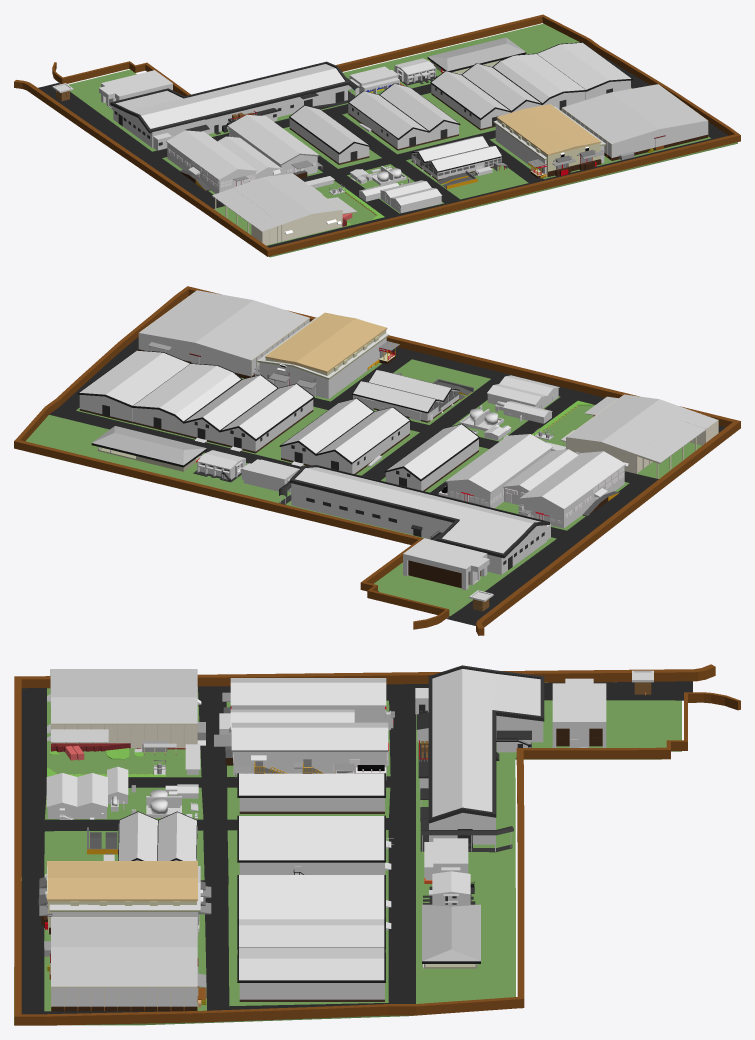
File: TrabajoProyectoARv27.fbx
The picture shows the model from 3 angles, top to bottom: view 1: azimuth 30°, elevation 25°; view 2: azimuth 150°, elevation 25°; view 3: azimuth 270°, elevation 25°; orthographic projection. The views are drawn at different scales.
Parts seen in each view (by area): view 1: Cube.277, Cesped, Carretera, Cube.014, Almacen8, techos, Cube.019, Cube.098, Cube.273, Cube.274, edificio 5frente a teco techo.002, edificio 1 frente a teco techo.003 (+21 smaller); view 2: Cube.277, Cesped, Carretera, techos, Almacen8, Cube.014, Cube.019, Cube.273, Cube.098, Cube.274, edificio 5frente a teco techo.002, Cube.360 (+22 smaller); view 3: Carretera, Cesped, Cube.277, Almacen8, techos, Cube.014, Cube.019, Cube.274, Cube.098, Cube.273, edificio 1 frente a teco techo.003, edificio 5frente a teco techo.002 (+20 smaller).
Part boxes in pixels (bbox=[...]): Cube.277: bbox=[14, 14, 740, 256]; Cesped: bbox=[68, 23, 737, 257]; Carretera: bbox=[38, 55, 728, 247]; Cube.014: bbox=[110, 61, 349, 133]; Almacen8: bbox=[562, 84, 707, 160]; techos: bbox=[348, 63, 542, 139]; Cube.019: bbox=[233, 173, 342, 241]; Cube.098: bbox=[496, 104, 601, 176]; Cube.273: bbox=[166, 130, 257, 193]; Cube.274: bbox=[227, 114, 319, 174]; edificio 5frente a teco techo.002: bbox=[492, 53, 587, 104]; edificio 1 frente a teco techo.003: bbox=[536, 42, 633, 91]; Cube.277: bbox=[14, 286, 740, 635]; Cesped: bbox=[26, 359, 702, 616]; Carretera: bbox=[49, 297, 725, 625]; techos: bbox=[183, 374, 410, 464]; Almacen8: bbox=[139, 290, 308, 378]; Cube.014: bbox=[289, 465, 549, 558]; Cube.019: bbox=[566, 394, 693, 473]; Cube.273: bbox=[519, 451, 625, 528]; Cube.098: bbox=[265, 312, 387, 375]; Cube.274: bbox=[445, 434, 552, 508]; edificio 5frente a teco techo.002: bbox=[131, 363, 242, 423]; Cube.360: bbox=[291, 483, 452, 539]; Carretera: bbox=[21, 681, 692, 1014]; Cesped: bbox=[14, 682, 681, 1025]; Cube.277: bbox=[14, 664, 740, 1025]; Almacen8: bbox=[51, 917, 197, 1011]; techos: bbox=[237, 815, 385, 919]; Cube.014: bbox=[428, 665, 544, 823]; Cube.019: bbox=[51, 680, 197, 748]; Cube.274: bbox=[231, 722, 388, 775]; Cube.098: bbox=[41, 861, 197, 932]; Cube.273: bbox=[230, 678, 386, 722]; edificio 1 frente a teco techo.003: bbox=[237, 947, 385, 982]; edificio 5frente a teco techo.002: bbox=[237, 919, 385, 949].
Size of the model in its own units: 4672 by 327 by 4073.
